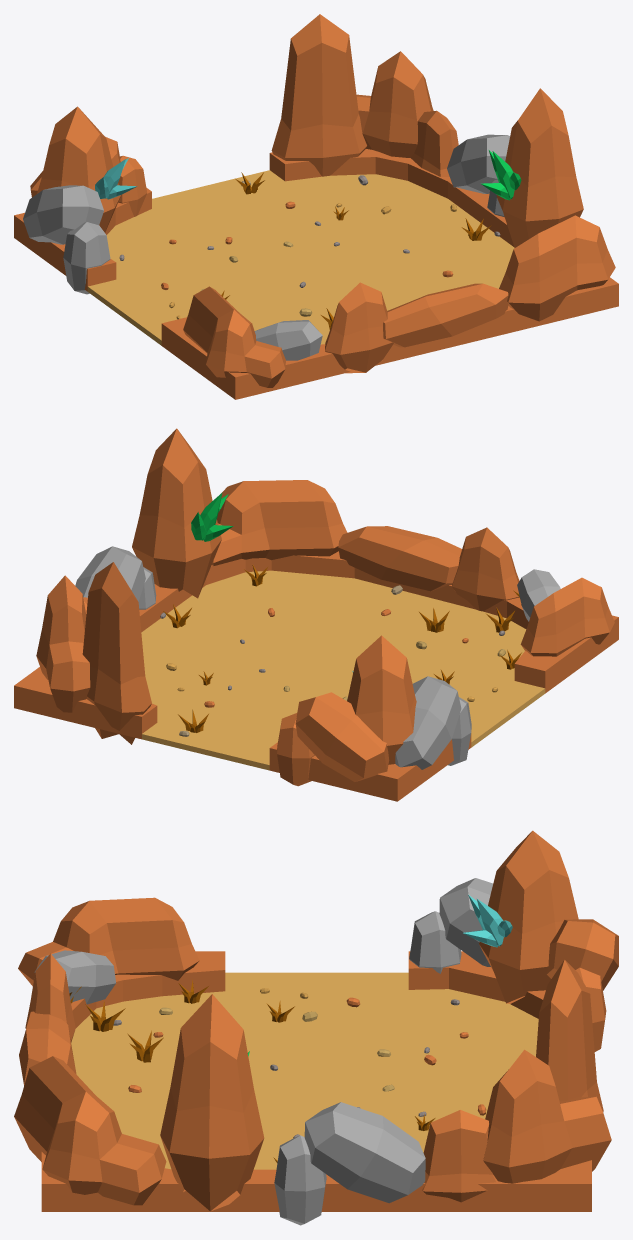
Rendered from cave level set - 2 Way (4).fbx.
The picture shows the model from 3 angles, top to bottom: view 1: azimuth 30°, elevation 25°; view 2: azimuth 150°, elevation 25°; view 3: azimuth 270°, elevation 25°; orthographic projection. The views are drawn at different scales.
Visible parts, largest first — view 1: land_platform_001, Cube_008, Cube_011, Cube_004, Cube_010, Cube_003, Cube_009, Cube, Cube_002, Cube_005, Cube_012, Cube_006 (+2 smaller); view 2: land_platform_001, Cube_011, Cube_004, Cube_008, Cube_007, Cube_002, Cube, Cube_009, Cube_003, Cube_010, Cube_005, Cube_012 (+1 smaller); view 3: land_platform_001, Cube_011, Cube_004, Cube_012, Cube_009, Cube, Cube_003, Cube_008, Cube_006, Cube_010, Cube_007, Cube_002 (+2 smaller).
Boxes of the visible parts, x1,y1,x2,y2 form: land_platform_001: (14,149,618,399); Cube_008: (271,14,366,176); Cube_011: (481,88,583,247); Cube_004: (499,215,615,321); Cube_010: (23,185,110,294); Cube_003: (183,286,285,387); Cube_009: (356,51,433,157); Cube: (37,106,137,232); Cube_002: (383,283,508,347); Cube_005: (325,282,393,373); Cube_012: (447,134,509,216); Cube_006: (411,110,458,176); land_platform_001: (14,551,618,801); Cube_011: (132,428,233,598); Cube_004: (211,480,347,565); Cube_008: (82,562,151,744); Cube_007: (277,692,389,786); Cube_002: (338,526,461,591); Cube: (347,635,416,764); Cube_009: (36,575,90,712); Cube_003: (520,577,614,656); Cube_010: (395,676,471,769); Cube_005: (452,527,519,611); Cube_012: (75,546,156,609); land_platform_001: (41,951,591,1211); Cube_011: (160,994,264,1211); Cube_004: (14,1056,166,1205); Cube_012: (274,1102,425,1225); Cube_009: (483,1049,611,1183); Cube: (463,830,578,1003); Cube_003: (18,897,199,986); Cube_008: (536,959,603,1112); Cube_006: (421,1110,497,1202); Cube_010: (409,878,492,973); Cube_007: (546,919,618,1051); Cube_002: (19,1011,76,1085).
Bounding box in the file's own units: 16.72 × 6.97 × 16.69.
